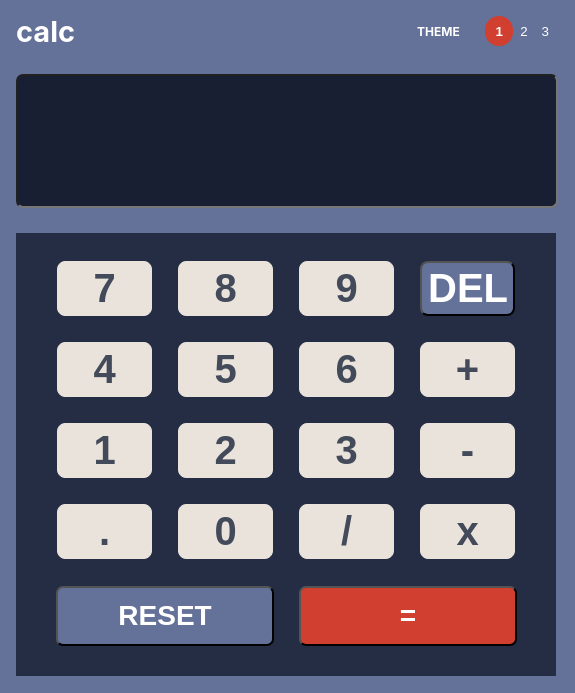
it: Main › should subtract two values
Click the button "8": (226, 288) top-left (178, 261), bottom-right (273, 316)
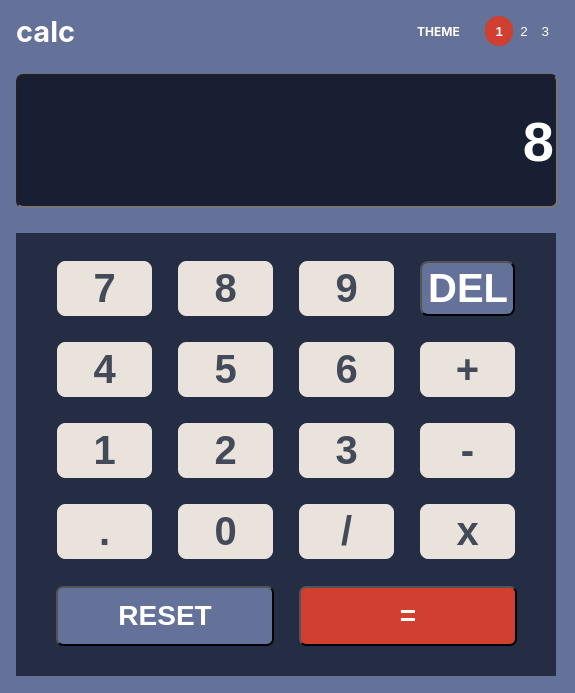
Click the button "-": (468, 450) top-left (420, 423), bottom-right (515, 478)
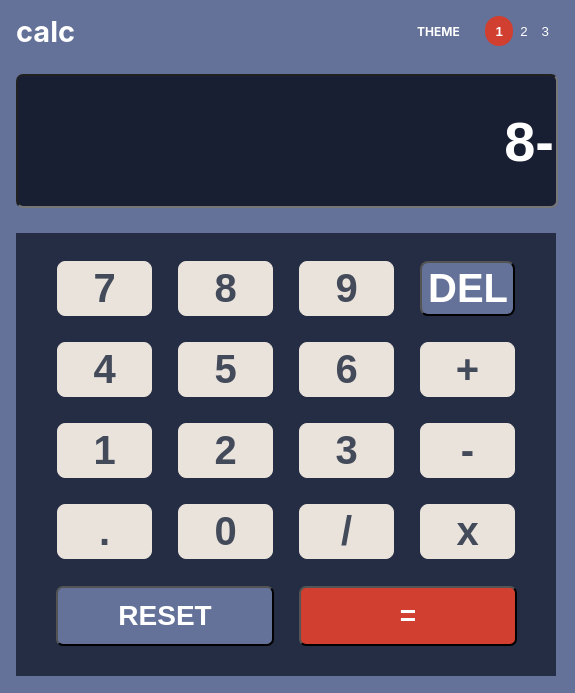
Click the button "9": (346, 288) top-left (299, 261), bottom-right (394, 316)
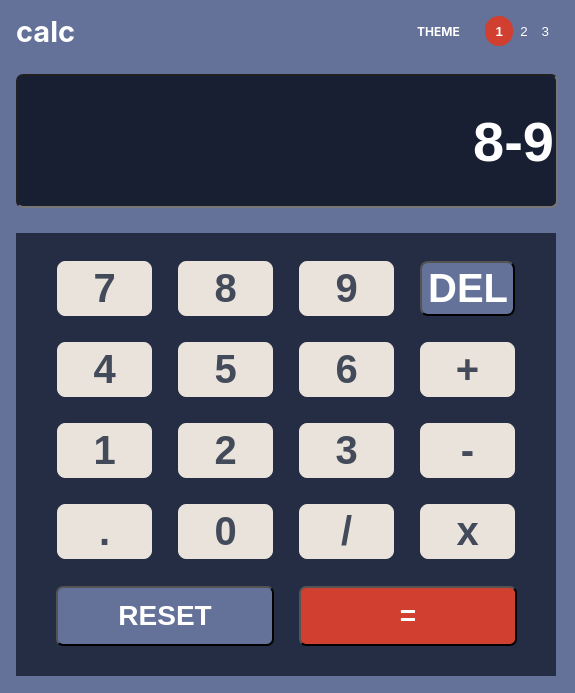
Click the button "=": (408, 616) top-left (299, 586), bottom-right (517, 646)
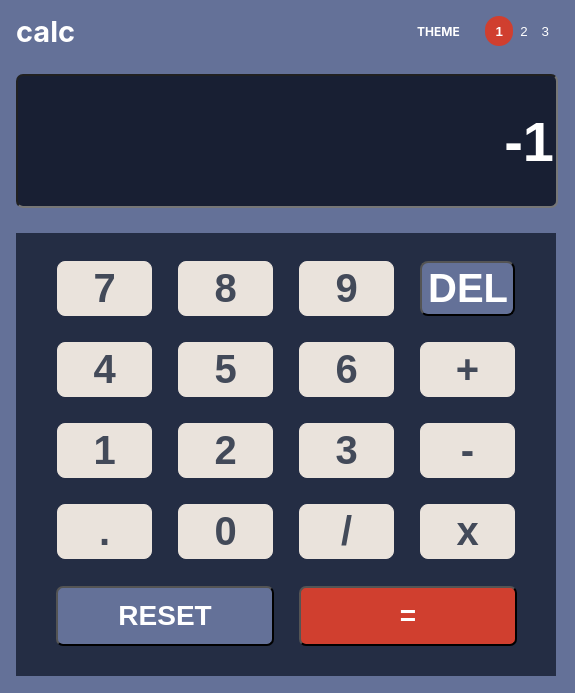
Expected: the field holds "-1", top-left (16, 74), bottom-right (558, 208)
